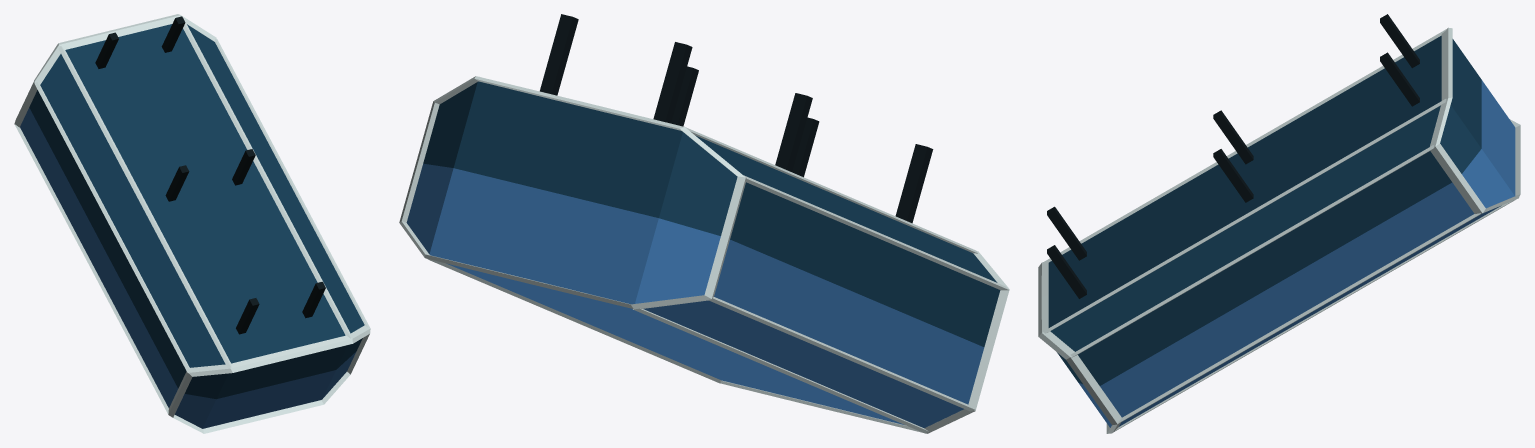
The model's file is Freighter_Cargo.02.fbx.
The picture shows the model from 3 angles, left to right: view 1: azimuth 30°, elevation 25°; view 2: azimuth 150°, elevation 25°; view 3: azimuth 270°, elevation 25°; orthographic projection. The views are drawn at different scales.
Parts seen in each view (by area): view 1: CruiserCargo_02_LOD0; view 2: CruiserCargo_02_LOD0; view 3: CruiserCargo_02_LOD0.
Part boxes in pixels (<box>): CruiserCargo_02_LOD0: <box>14,14,370,433</box>; CruiserCargo_02_LOD0: <box>399,14,1009,433</box>; CruiserCargo_02_LOD0: <box>1038,14,1520,433</box>.
Size of what is drawn, in the model's own units: 3084 by 4952 by 5945.
1 material, 1 textured.
